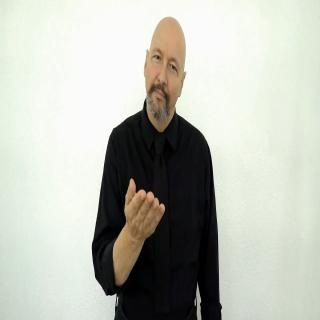ThankYou: (87, 0, 226, 320)
